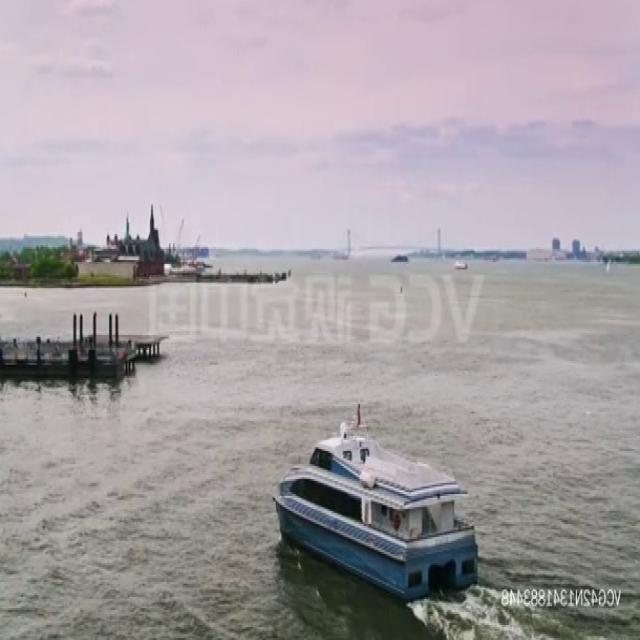houseboat: (272, 414, 478, 602), (453, 255, 469, 271)
